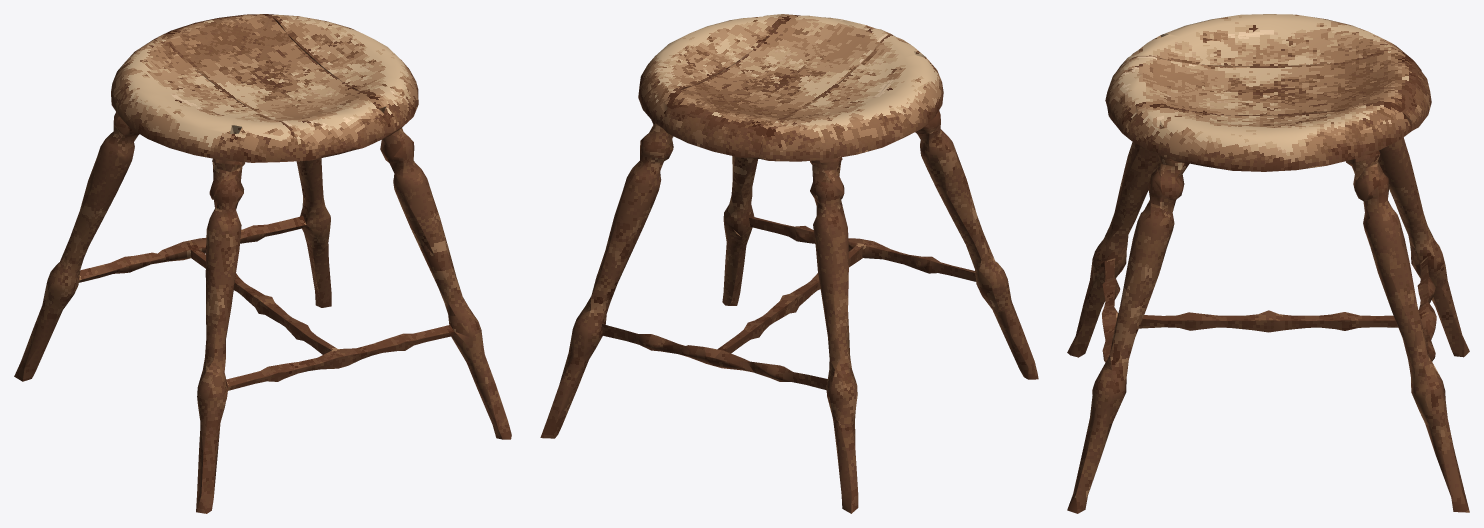
Rendered from stool.glb.
3 renders of one model, left to right at view 1: azimuth 30°, elevation 25°; view 2: azimuth 150°, elevation 25°; view 3: azimuth 270°, elevation 25°, orthographic. The views are drawn at different scales.
Parts seen in each view (by area): view 1: body_q; view 2: body_q; view 3: body_q.
Boxes of the visible parts, left/top/right/bottom form: body_q: left=14, top=14, right=511, bottom=513; body_q: left=540, top=14, right=1038, bottom=513; body_q: left=1067, top=14, right=1469, bottom=513.
Size of the model in its own units: 0.4024 by 0.4125 by 0.418.
Materials: 1 (1 with a texture image).
